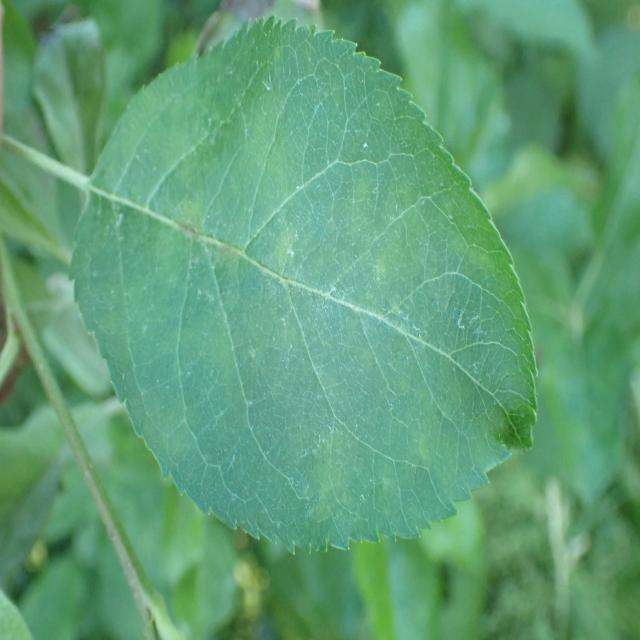scab: (75, 8, 538, 546)
